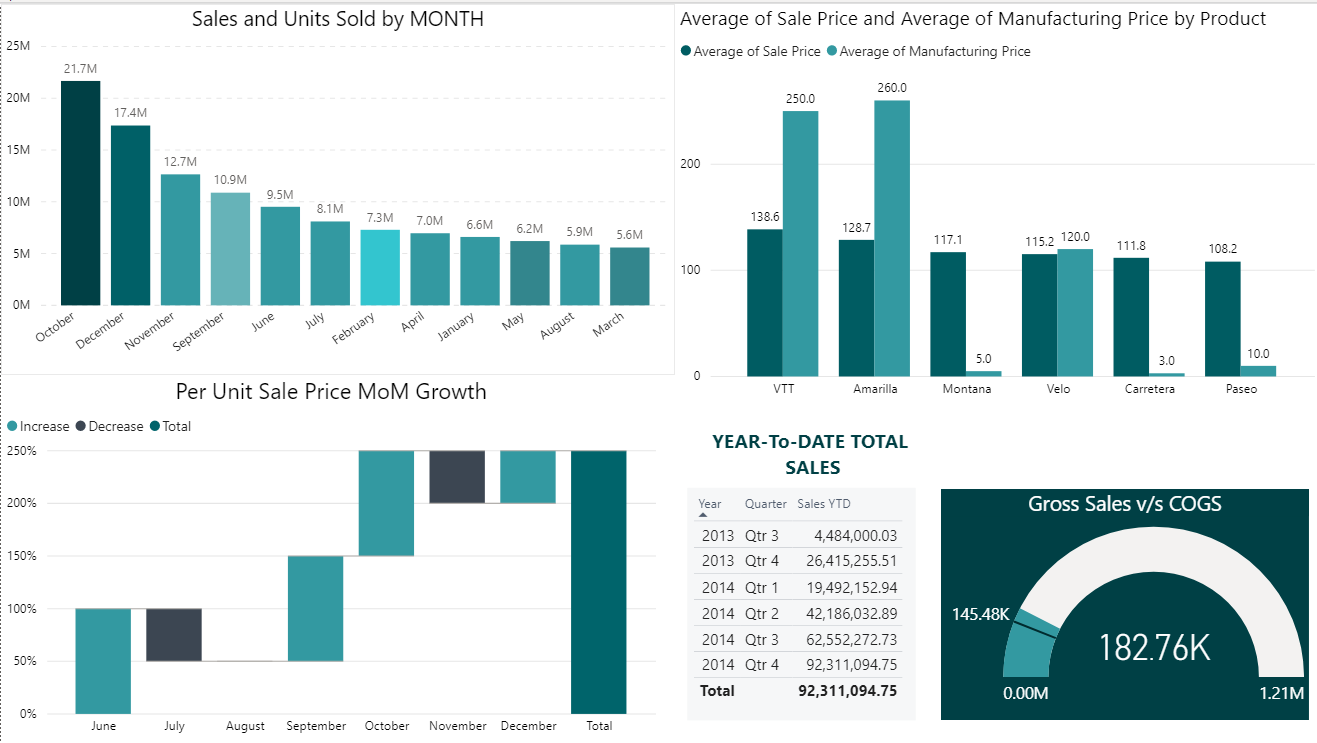

Layout of this report page (visuals, bound fields, positions):
{"tool":"powerbi","page":{"name":"SALES ANALYSIS","canvas":[1280,720],"ordinal":1},"visuals":[{"type":"gauge","title":"Gross Sales v/s COGS","fields":{"Y":["Avg(financials.Gross Sales)"],"TargetValue":["Avg(financials.COGS)"],"MaxValue":["Max(financials.Gross Sales)"]},"box":[911.8,470.4,357,224.3],"z":0},{"type":"tableEx","fields":{"Values":["financials.Date.Variation.Date Hierarchy.Year","financials.Date.Variation.Date Hierarchy.Quarter","financials.Sales YTD"]},"box":[665.7,469.1,221.9,225.5],"z":1000},{"type":"clusteredColumnChart","fields":{"Category":["financials.Product"],"Y":["Avg(financials.Sale Price)","Avg(financials.Manufacturing Price)"]},"box":[653.7,0,625.9,392],"z":2000},{"type":"waterfallChart","title":"Per Unit Sale Price MoM Growth","fields":{"Category":["financials.Date.Variation.Date Hierarchy.Month"],"Y":["financials.Sale Price MoM%"]},"box":[0,360.6,640.4,359.4],"z":3000},{"type":"columnChart","fields":{"Category":["financials.MONTH"],"Y":["Sum(financials. Sales)"]},"box":[0,0,653.7,360.6],"z":4000},{"type":"textbox","box":[663.3,406.4,248.4,62.7],"z":5000}]}

Visuals, with their boxes in screenshot pixels (x1, y1, x2, y2), scaled from the page's 1280x720 canvas onto the 1317x743 screenshot:
"Gross Sales v/s COGS" gauge: 938/485/1305/717
tableEx - financials.Date.Variation.Date Hierarchy.Year x financials.Date.Variation.Date Hierarchy.Quarter: 685/484/913/717
clusteredColumnChart - financials.Product x Avg(financials.Sale Price): 673/0/1316/405
"Per Unit Sale Price MoM Growth" waterfallChart: 0/372/659/742
columnChart - financials.MONTH x Sum(financials. Sales): 0/0/673/372
textbox: 682/419/938/484
